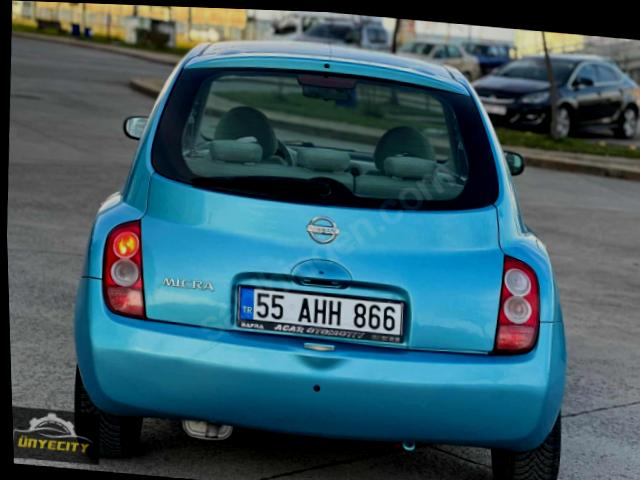plaka: (237, 286, 404, 342)
